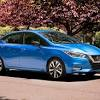Nissan: (1, 31, 100, 77)
